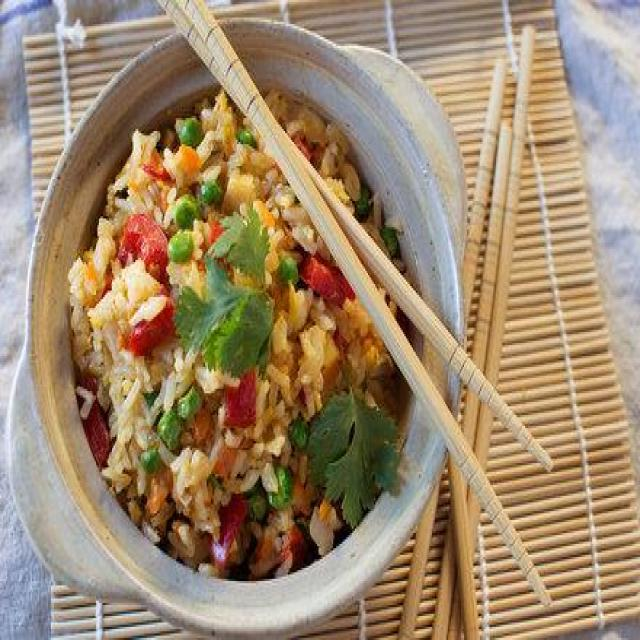Nasi Goreng: (67, 81, 407, 579)
